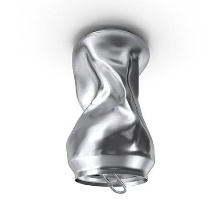can: (57, 21, 164, 197)
